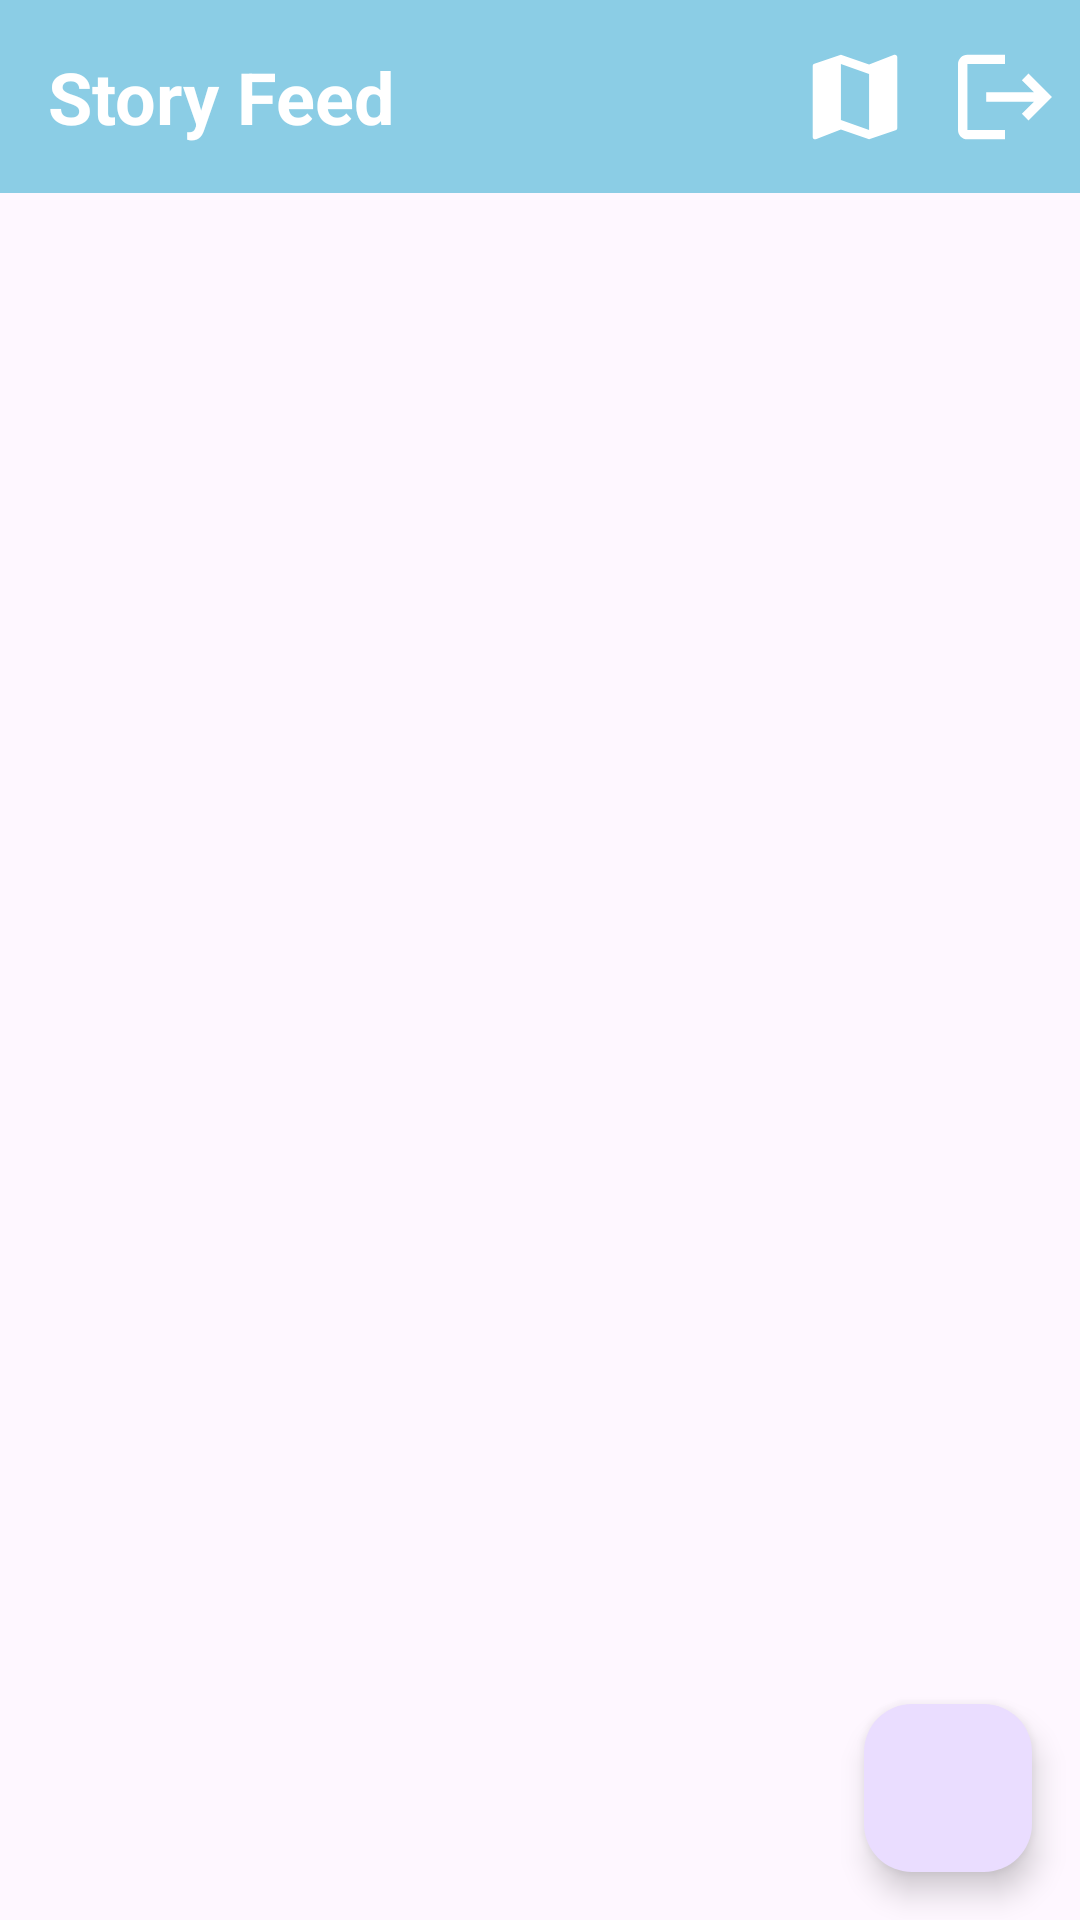

Icons on this 1080*1920 Android screen, each with the point to tap as (x,y):
map: (855,97)
